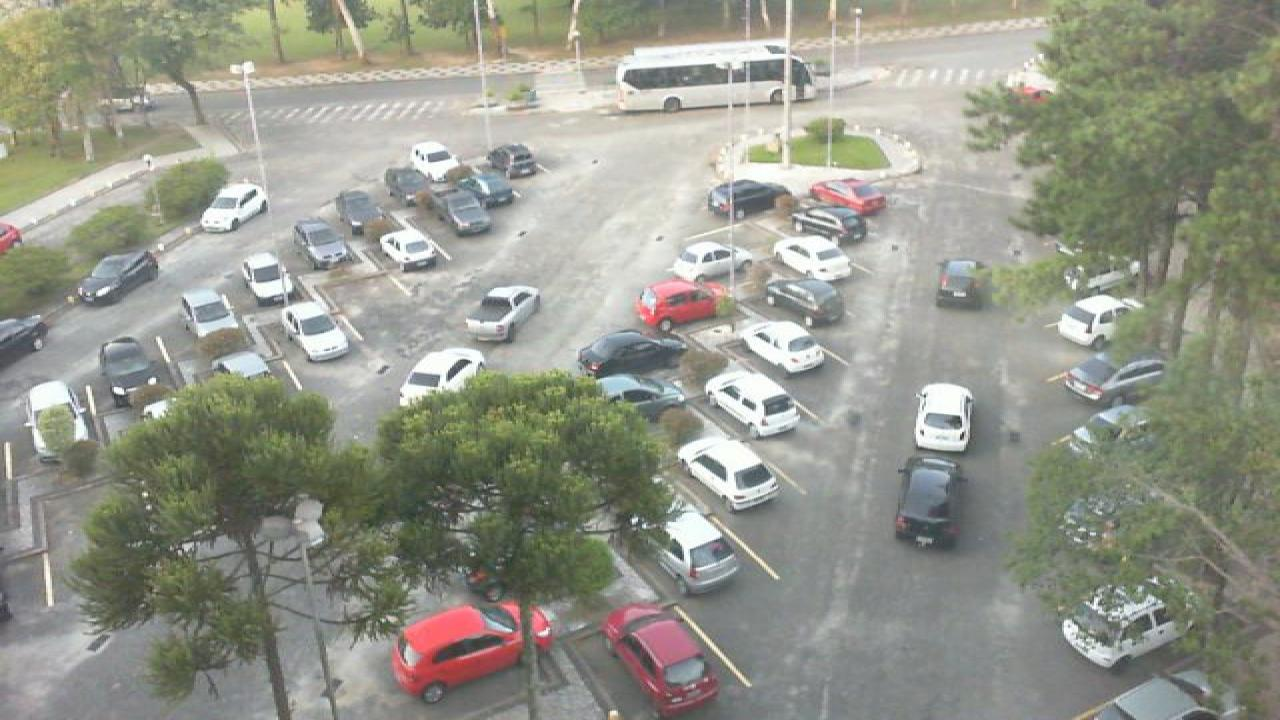Car: (390, 602, 558, 708), (602, 598, 720, 718), (1060, 585, 1188, 669), (638, 504, 740, 598), (676, 435, 782, 513), (704, 370, 804, 439), (632, 276, 746, 336), (894, 454, 966, 548), (1088, 671, 1224, 720), (396, 346, 492, 408), (1060, 354, 1166, 410), (576, 327, 690, 378), (738, 317, 830, 375), (72, 253, 162, 308), (1054, 295, 1144, 350), (26, 380, 86, 462), (280, 302, 354, 364), (466, 284, 542, 343), (912, 382, 974, 453), (94, 335, 162, 397), (764, 277, 846, 327), (668, 240, 756, 284), (772, 236, 856, 282), (198, 181, 270, 234), (596, 376, 684, 419), (706, 179, 792, 218), (792, 201, 872, 242), (806, 178, 890, 217), (292, 217, 354, 269), (378, 226, 446, 272), (180, 287, 240, 339), (242, 251, 298, 301), (408, 138, 468, 184), (434, 190, 494, 236), (206, 349, 276, 388), (332, 188, 386, 235), (934, 258, 984, 308), (456, 172, 518, 208), (488, 143, 544, 180), (382, 166, 436, 202)
